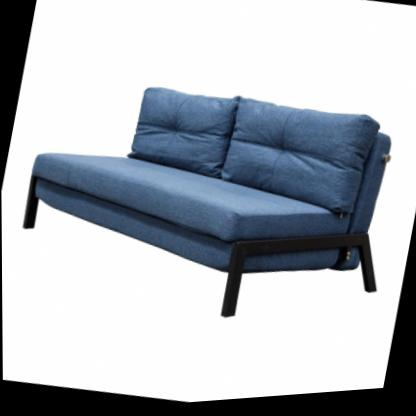Sofa: (5, 52, 410, 361)
